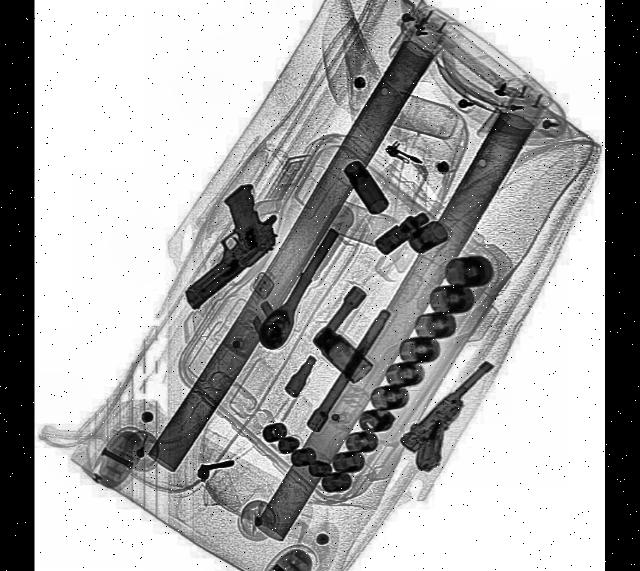Gun: (162, 175, 289, 312), (397, 356, 514, 482)
